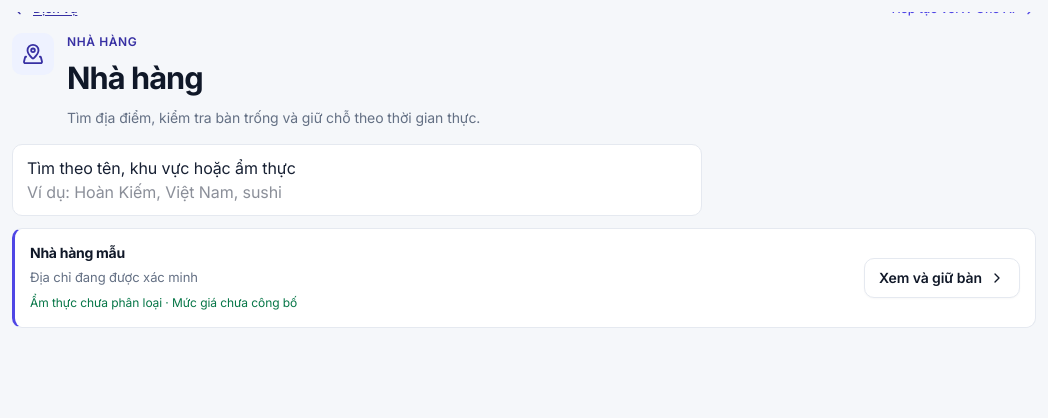
Scenario: RestaurantBrowse real-time search › shows the requested empty state after a completed search has no matches
This screenshot has width=1048, height=418.
Type "Không tồn tại" into the field labelled "Tìm theo tên, khu vực hoặc ẩm thực".
click(357, 192); type("Không tồn tại")  # box [27,180,687,204]
Wait 300 ms
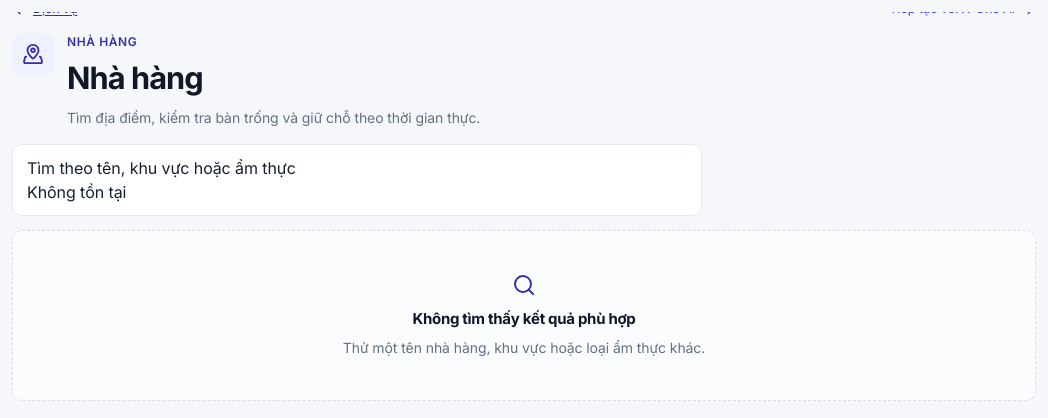
Expected: the heading "Không tìm thấy kết quả phù hợp" is shown, [412,309,636,329]
